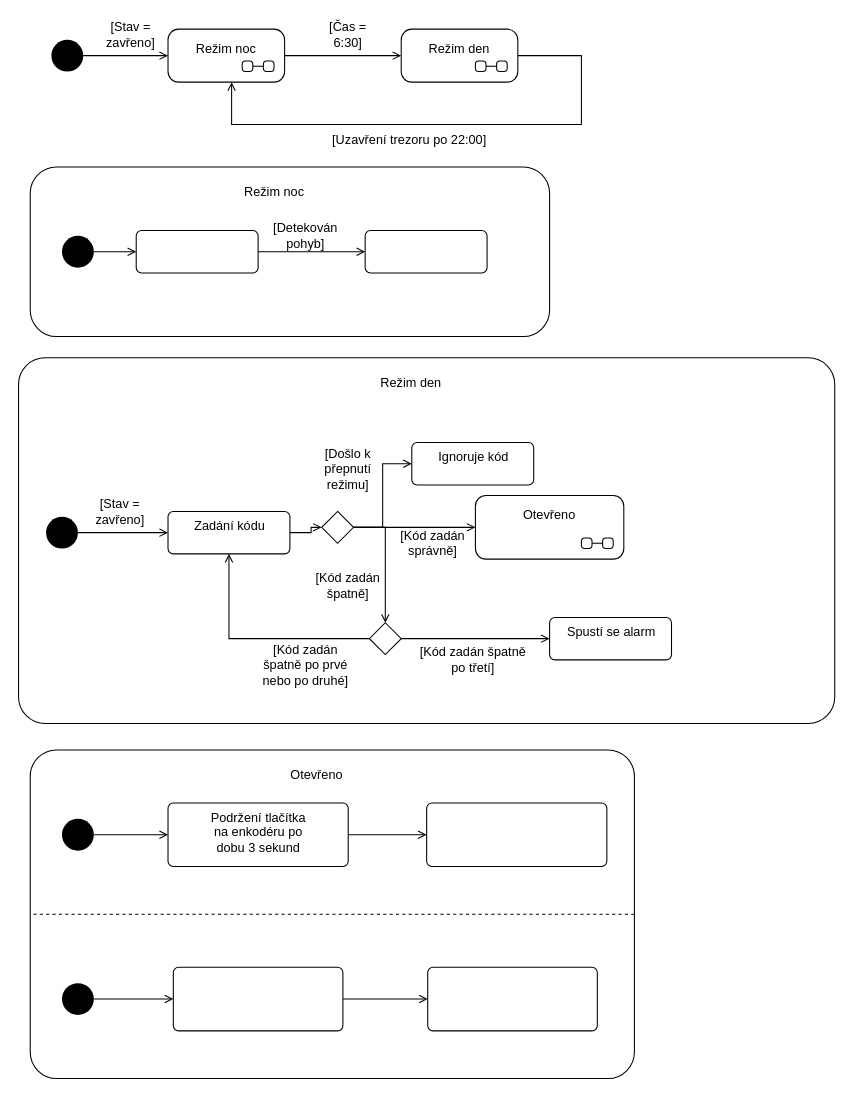
Some shapes in this 853 by 1097 pixel diagram are drawn without their labels. Each missing label, with the centre of its shape:
"Aktivní čidlo pohybu" goes at (x=196, y=251).
"Alarm deaktivovaný" goes at (x=512, y=998).
"Spuštěn alarm" goes at (x=425, y=251).
"Zadání kódu 3497" goes at (x=257, y=998).
"Zavřeno" goes at (x=516, y=834).
